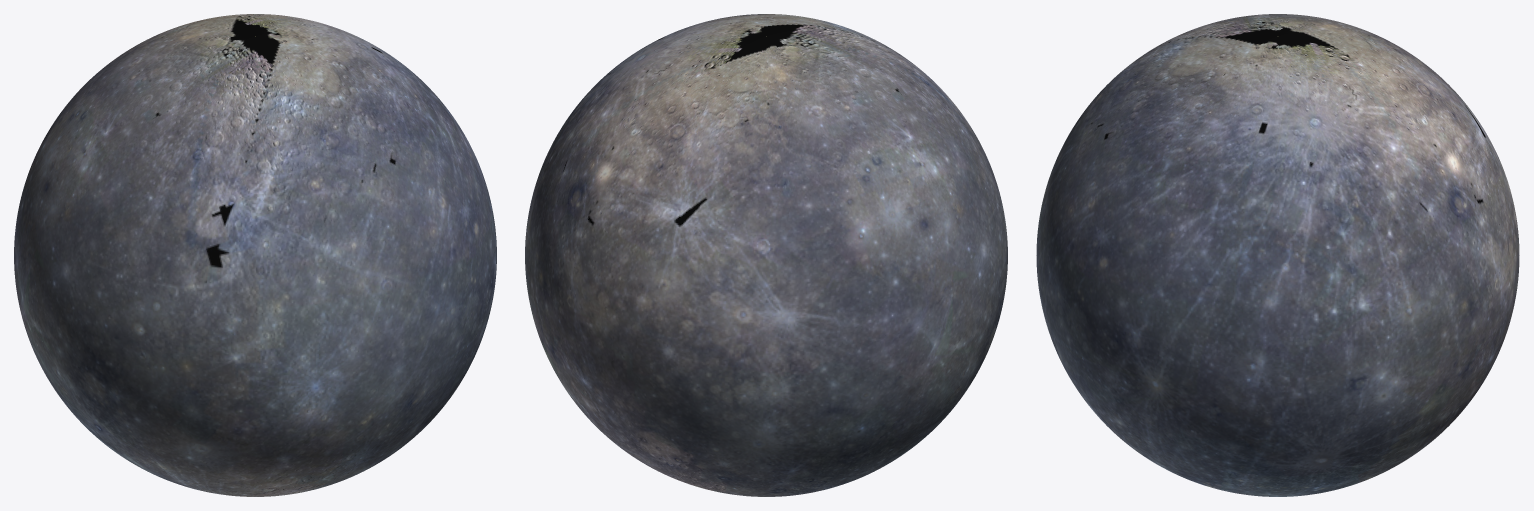
File: mercury.glb
The picture shows the model from 3 angles, left to right: view 1: azimuth 30°, elevation 25°; view 2: azimuth 150°, elevation 25°; view 3: azimuth 270°, elevation 25°; orthographic projection.
Parts seen in each view (by area): view 1: Object_2; view 2: Object_2; view 3: Object_2.
Boxes of the visible parts, <box> form: Object_2: <box>14,14,496,496</box>; Object_2: <box>525,14,1007,496</box>; Object_2: <box>1036,14,1519,496</box>.
Size of the model in its own units: 9.6 by 9.6 by 9.6.
1 material, 1 textured.
